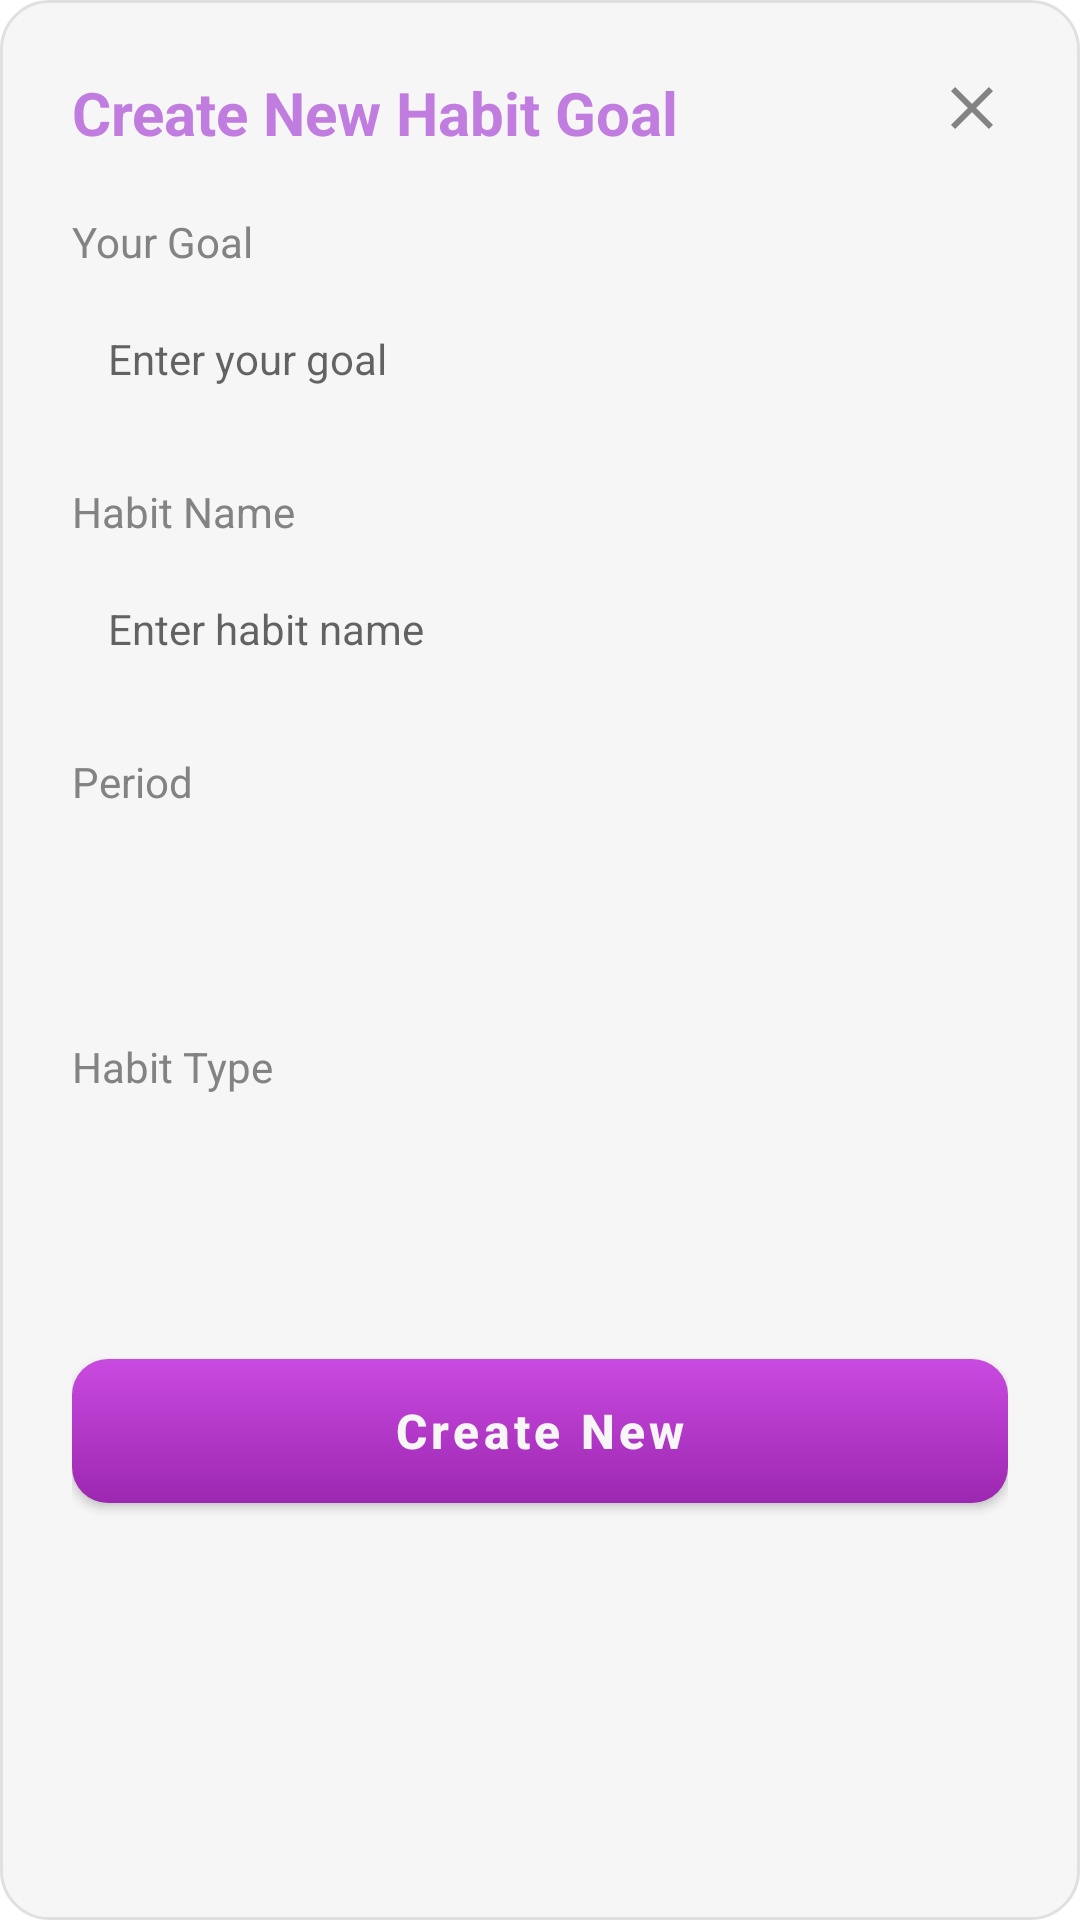

Icons on this 1080px×1920px Android screen, each with the point to tap as [x,y]:
Close: [972,108]
